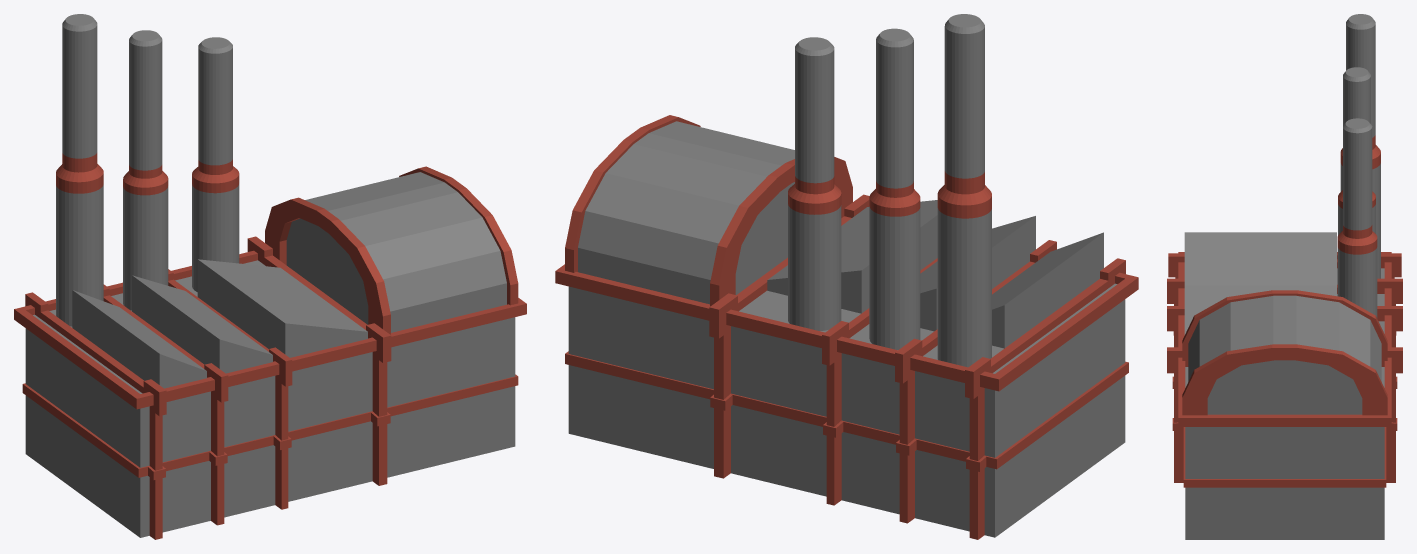
The model's file is Fabrica1.fbx.
3 views of the same model, side by side, from view 1: azimuth 30°, elevation 25°; view 2: azimuth 150°, elevation 25°; view 3: azimuth 270°, elevation 25° (orthographic). The views are drawn at different scales.
Parts seen in each view (by area): view 1: Fabria, Chamines, TelhadoRedondo, Telhadinhos; view 2: Fabria, Chamines, TelhadoRedondo, Telhadinhos; view 3: Fabria, TelhadoRedondo, Chamines, Telhadinhos.
Part boxes in pixels (x1=…): Fabria: x1=14, y1=236, x2=526, y2=539; Chamines: x1=56, y1=14, x2=239, y2=326; TelhadoRedondo: x1=265, y1=166, x2=518, y2=334; Telhadinhos: x1=72, y1=259, x2=367, y2=388; Fabria: x1=555, y1=194, x2=1138, y2=539; Chamines: x1=788, y1=14, x2=991, y2=367; TelhadoRedondo: x1=565, y1=115, x2=852, y2=306; Telhadinhos: x1=767, y1=200, x2=1103, y2=348; Fabria: x1=1167, y1=252, x2=1402, y2=539; TelhadoRedondo: x1=1182, y1=290, x2=1387, y2=415; Chamines: x1=1337, y1=14, x2=1380, y2=318; Telhadinhos: x1=1184, y1=232, x2=1336, y2=334.
Size of the model in its own units: 863 by 919 by 519.
